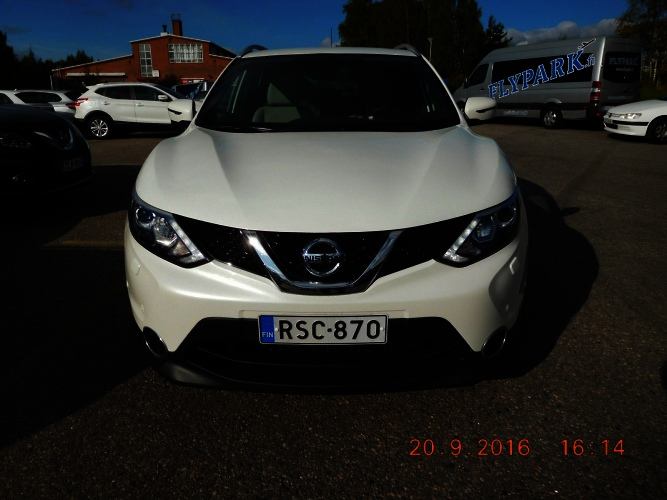license: (256, 312, 386, 351)
